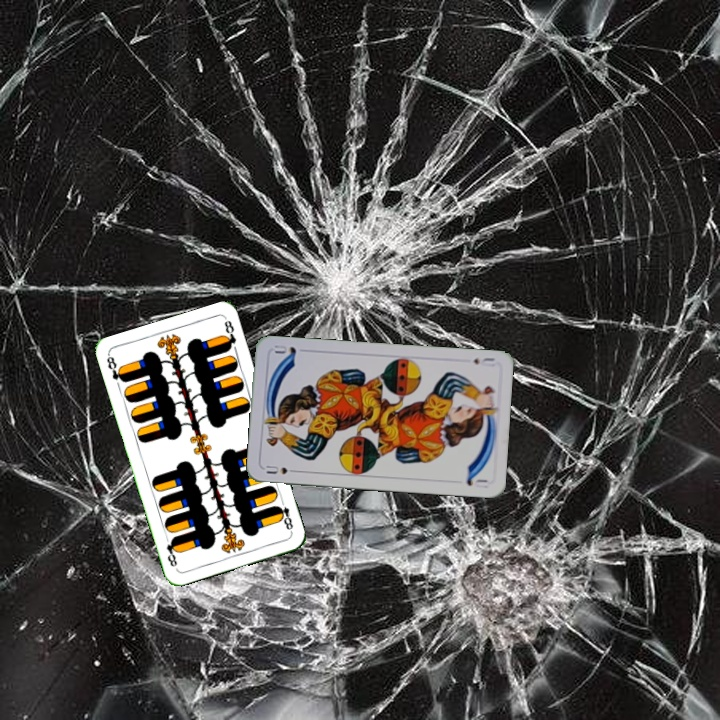E8: (272, 495, 296, 535), (102, 351, 128, 385)
SU: (262, 461, 301, 477), (469, 353, 498, 369)
